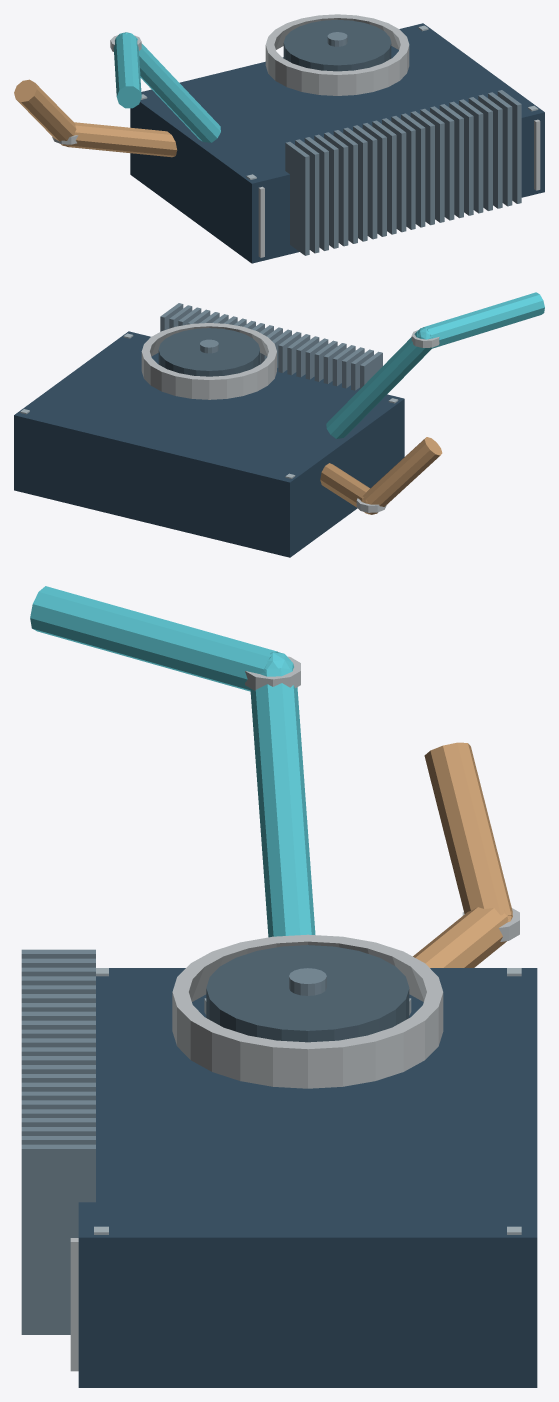
File: 36_L73_PolishingCoolingLoop.glb
3 views of the same model, one above another, from view 1: azimuth 30°, elevation 25°; view 2: azimuth 150°, elevation 25°; view 3: azimuth 270°, elevation 25° (orthographic). The views are drawn at different scales.
Parts seen in each view (by area): view 1: PolishingCoolingLoop_Node_0000, PolishingCoolingLoop_Node_0008, PolishingCoolingLoop_Node_0007, PolishingCoolingLoop_Node_0040, PolishingCoolingLoop_Node_0044, PolishingCoolingLoop_Node_0017, PolishingCoolingLoop_Node_0045, PolishingCoolingLoop_Node_0041, PolishingCoolingLoop_Node_0018, PolishingCoolingLoop_Node_0032, PolishingCoolingLoop_Node_0021, PolishingCoolingLoop_Node_0027 (+20 smaller); view 2: PolishingCoolingLoop_Node_0000, PolishingCoolingLoop_Node_0008, PolishingCoolingLoop_Node_0007, PolishingCoolingLoop_Node_0040, PolishingCoolingLoop_Node_0041, PolishingCoolingLoop_Node_0045, PolishingCoolingLoop_Node_0044, PolishingCoolingLoop_Node_0017, PolishingCoolingLoop_Node_0024, PolishingCoolingLoop_Node_0020, PolishingCoolingLoop_Node_0023, PolishingCoolingLoop_Node_0025 (+5 smaller); view 3: PolishingCoolingLoop_Node_0000, PolishingCoolingLoop_Node_0008, PolishingCoolingLoop_Node_0007, PolishingCoolingLoop_Node_0040, PolishingCoolingLoop_Node_0039, PolishingCoolingLoop_Node_0041, PolishingCoolingLoop_Node_0045, PolishingCoolingLoop_Node_0044, PolishingCoolingLoop_Node_0006, PolishingCoolingLoop_Node_0016.
Part boxes in pixels (x1,y1,x2,y2): PolishingCoolingLoop_Node_0000: (130,23,544,263); PolishingCoolingLoop_Node_0008: (265,14,409,95); PolishingCoolingLoop_Node_0007: (283,20,391,71); PolishingCoolingLoop_Node_0040: (135,36,220,142); PolishingCoolingLoop_Node_0044: (67,122,177,157); PolishingCoolingLoop_Node_0017: (285,141,309,255); PolishingCoolingLoop_Node_0045: (14,79,76,145); PolishingCoolingLoop_Node_0041: (113,33,141,108); PolishingCoolingLoop_Node_0018: (295,139,319,253); PolishingCoolingLoop_Node_0032: (430,106,454,220); PolishingCoolingLoop_Node_0021: (324,132,348,246); PolishingCoolingLoop_Node_0027: (382,118,406,232); PolishingCoolingLoop_Node_0000: (14,331,404,557); PolishingCoolingLoop_Node_0008: (141,323,276,399); PolishingCoolingLoop_Node_0007: (158,328,259,376); PolishingCoolingLoop_Node_0040: (326,331,431,438); PolishingCoolingLoop_Node_0041: (423,292,544,348); PolishingCoolingLoop_Node_0045: (362,437,442,506); PolishingCoolingLoop_Node_0044: (320,463,369,514); PolishingCoolingLoop_Node_0017: (360,351,382,388); PolishingCoolingLoop_Node_0024: (296,336,319,377); PolishingCoolingLoop_Node_0020: (332,345,355,386); PolishingCoolingLoop_Node_0023: (305,338,328,379); PolishingCoolingLoop_Node_0025: (287,334,310,375); PolishingCoolingLoop_Node_0000: (78,968,537,1387); PolishingCoolingLoop_Node_0008: (172,934,443,1088); PolishingCoolingLoop_Node_0007: (206,945,409,1042); PolishingCoolingLoop_Node_0040: (250,668,315,937); PolishingCoolingLoop_Node_0039: (21,1144,95,1334); PolishingCoolingLoop_Node_0041: (30,586,278,691); PolishingCoolingLoop_Node_0045: (424,742,512,916); PolishingCoolingLoop_Node_0044: (413,907,508,967); PolishingCoolingLoop_Node_0006: (70,1238,78,1371); PolishingCoolingLoop_Node_0016: (289,968,326,995).
Size of the model in its own units: 2.17 by 1.03 by 1.18.
